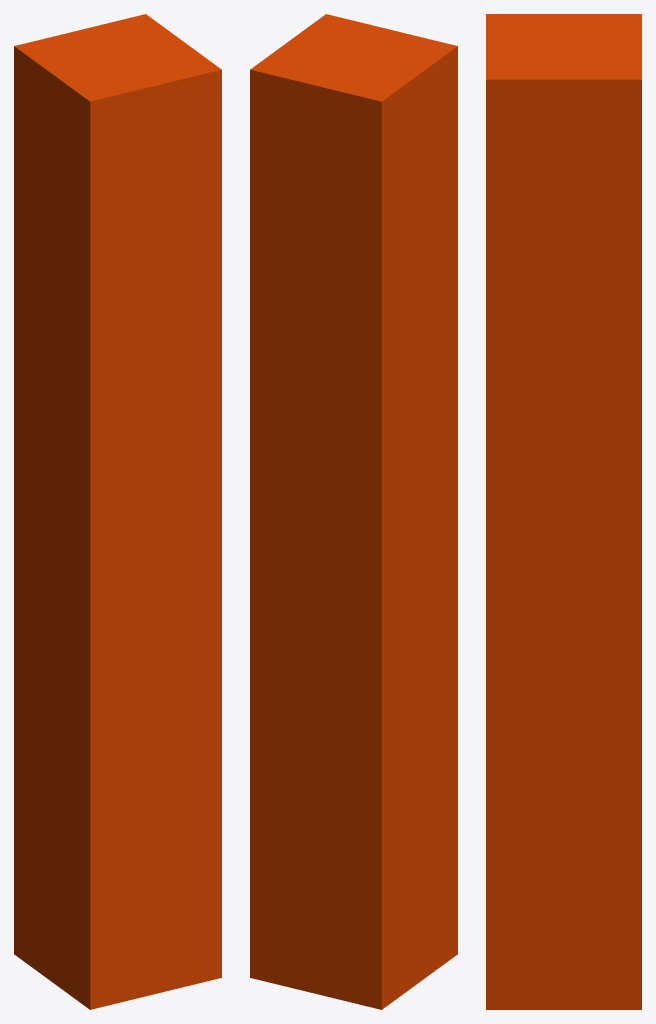
File: Temp Support.fbx
3 renders of one model, left to right at view 1: azimuth 30°, elevation 25°; view 2: azimuth 150°, elevation 25°; view 3: azimuth 270°, elevation 25°, orthographic. The views are drawn at different scales.
Parts seen in each view (by area): view 1: Temp Support; view 2: Temp Support; view 3: Temp Support.
Part boxes in pixels (x1,y1,x2,y2): Temp Support: [14, 14, 221, 1009]; Temp Support: [250, 14, 457, 1009]; Temp Support: [486, 14, 641, 1009].
Bounding box in the file's own units: 14.51 × 95.63 × 14.51.
